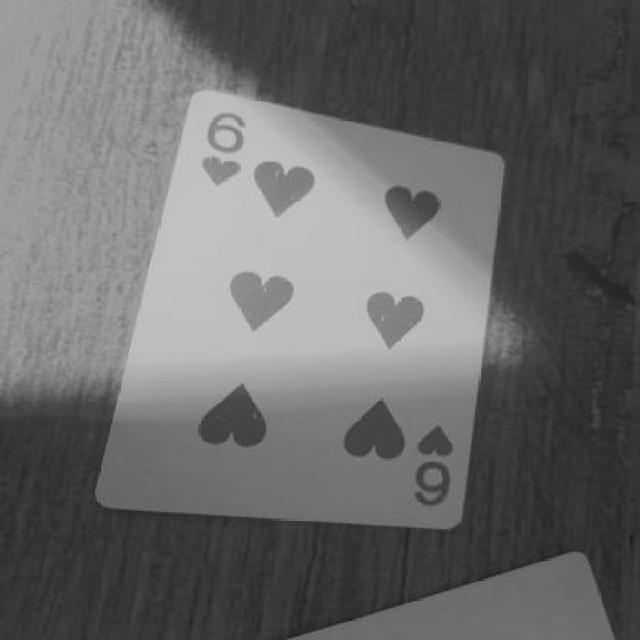6H: (188, 96, 270, 202), (410, 402, 468, 535)
